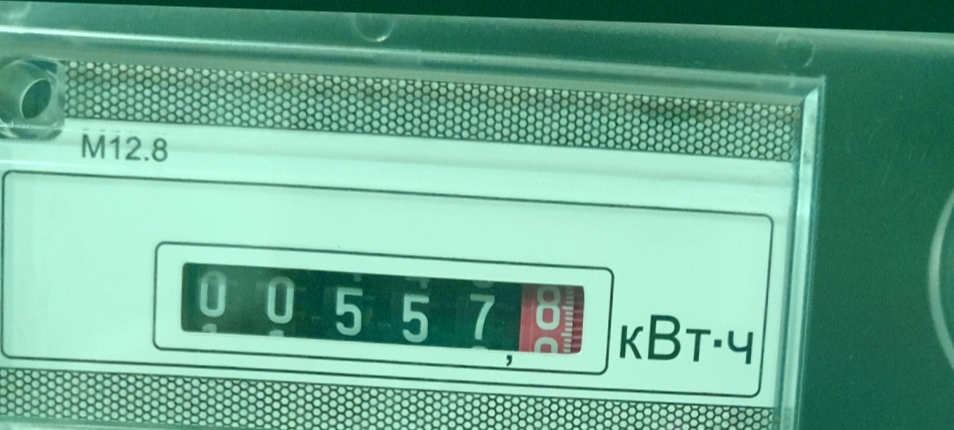0: (193, 263, 229, 320), (261, 271, 296, 324)
5: (394, 285, 434, 344), (329, 280, 365, 338)
7: (460, 286, 495, 342)
8: (532, 282, 561, 332)
screen: (145, 231, 618, 379)
